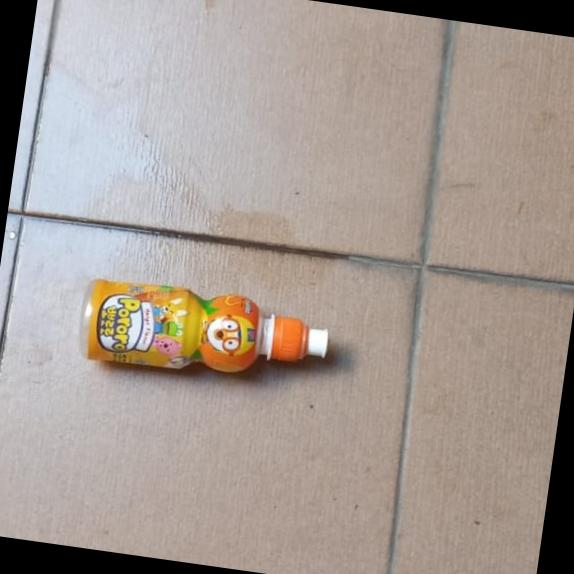Plastik: (73, 273, 332, 393)
